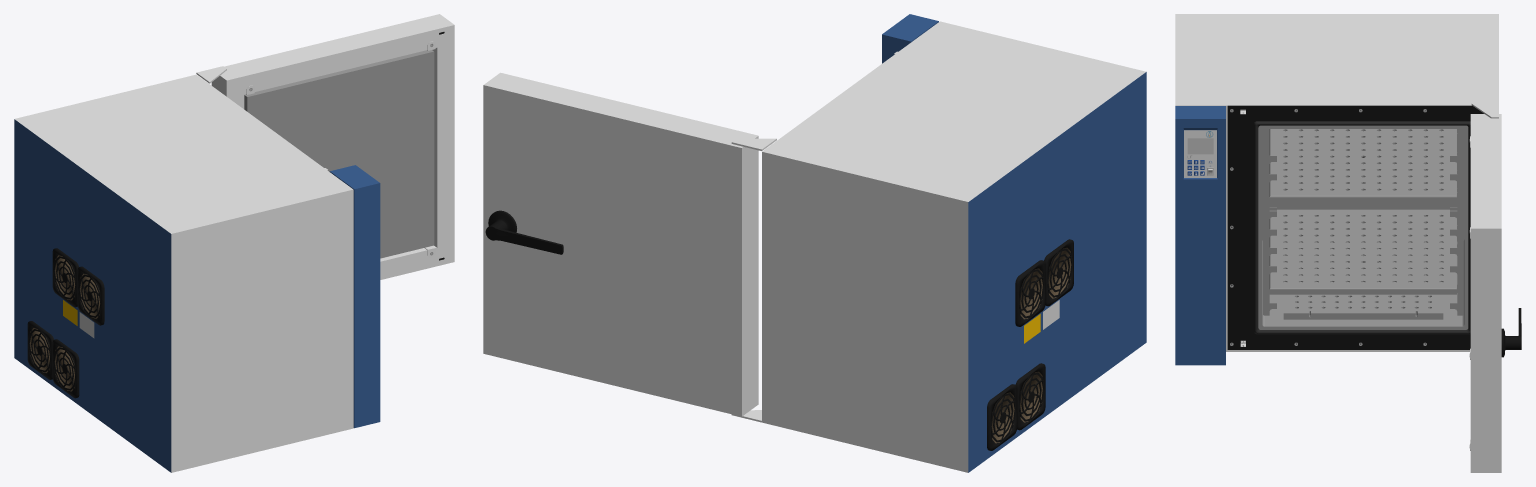
The model's file is SushBox.fbx.
The picture shows the model from 3 angles, left to right: view 1: azimuth 30°, elevation 25°; view 2: azimuth 150°, elevation 25°; view 3: azimuth 270°, elevation 25°; orthographic projection. The views are drawn at different scales.
Parts seen in each view (by area): view 1: Cube, Cube.001; view 2: Cube, Cube.001, Cube.002; view 3: Cube, Cube.001, Cube.002.
Part boxes in pixels (box(x1,y1,x2,y2)): Cube: box(14, 66, 380, 472); Cube.001: box(211, 14, 454, 279); Cube: box(731, 14, 1146, 472); Cube.001: box(483, 72, 758, 416); Cube.002: box(485, 210, 563, 254); Cube: box(1175, 14, 1498, 365); Cube.001: box(1469, 114, 1501, 472); Cube.002: box(1501, 308, 1521, 357).
Bounding box in the file's own units: 602 × 322 × 408.
